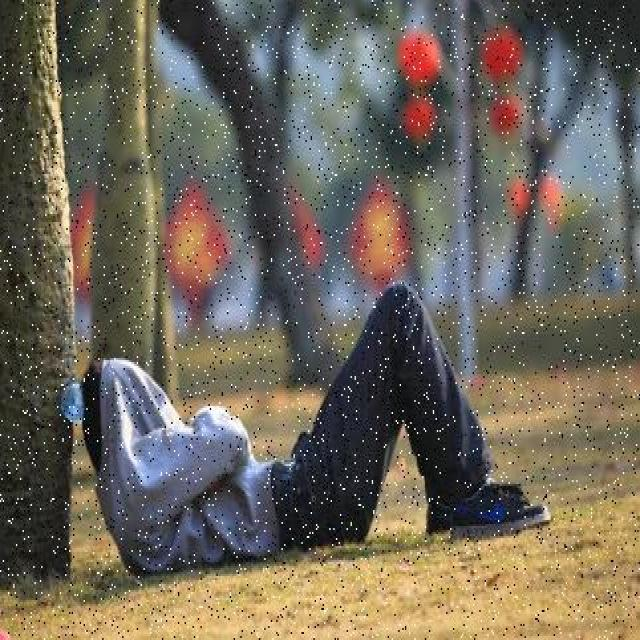fall: (74, 316, 550, 538)
